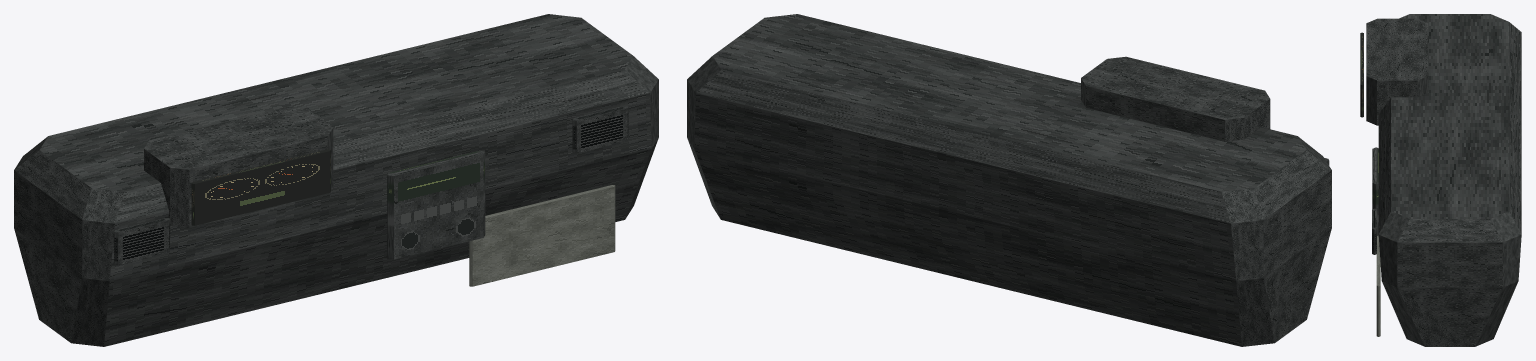
Rendered from dashboard.glb.
3 views of the same model, side by side, from view 1: azimuth 30°, elevation 25°; view 2: azimuth 150°, elevation 25°; view 3: azimuth 270°, elevation 25° (orthographic). The views are drawn at different scales.
Parts seen in each view (by area): view 1: Body; view 2: Body; view 3: Body.
Boxes of the visible parts, x1,y1,x2,y2 form: Body: [14, 14, 658, 346]; Body: [687, 14, 1331, 346]; Body: [1360, 14, 1521, 346].
Bounding box in the file's own units: 1.66 × 0.53 × 0.519.
1 material, 1 textured.
